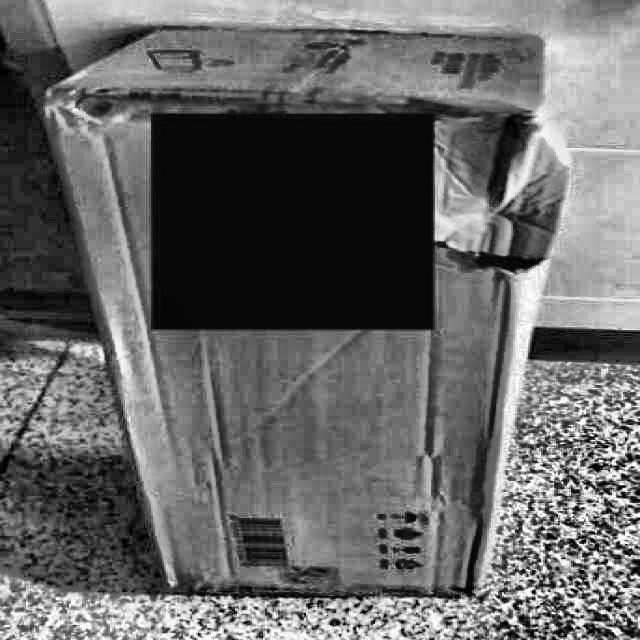box: (38, 16, 583, 605)
hole: (442, 239, 548, 283)
